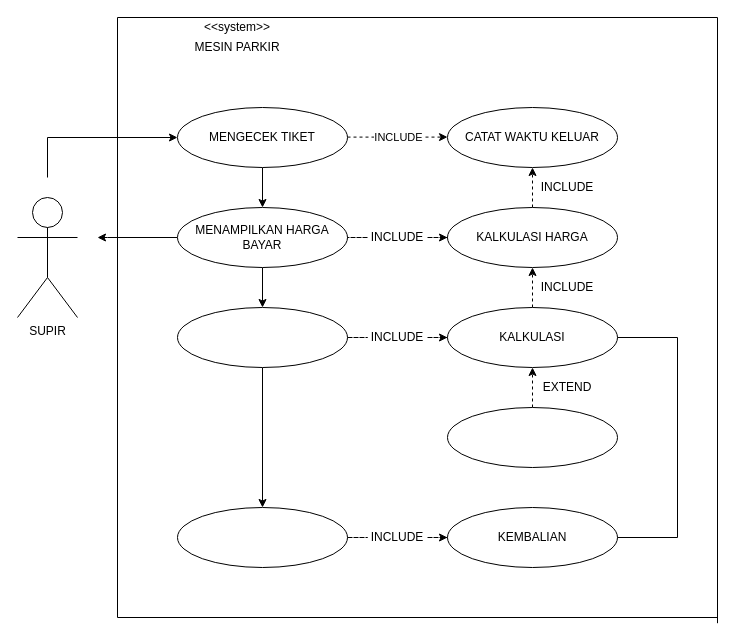
Image size: 736x642. Some labels were removed from this diagram. The centre of each missing label's shape, as x and y in pixels:
"MENERIMA UANG" belongs at (262,337).
"MENGECEK KEMBALIAN" belongs at (532,437).
"RESI/STRUK/TIKET" belongs at (262,537).
